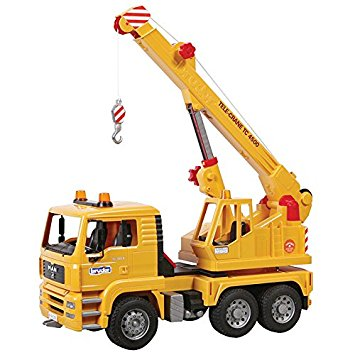truck: (38, 5, 318, 347)
